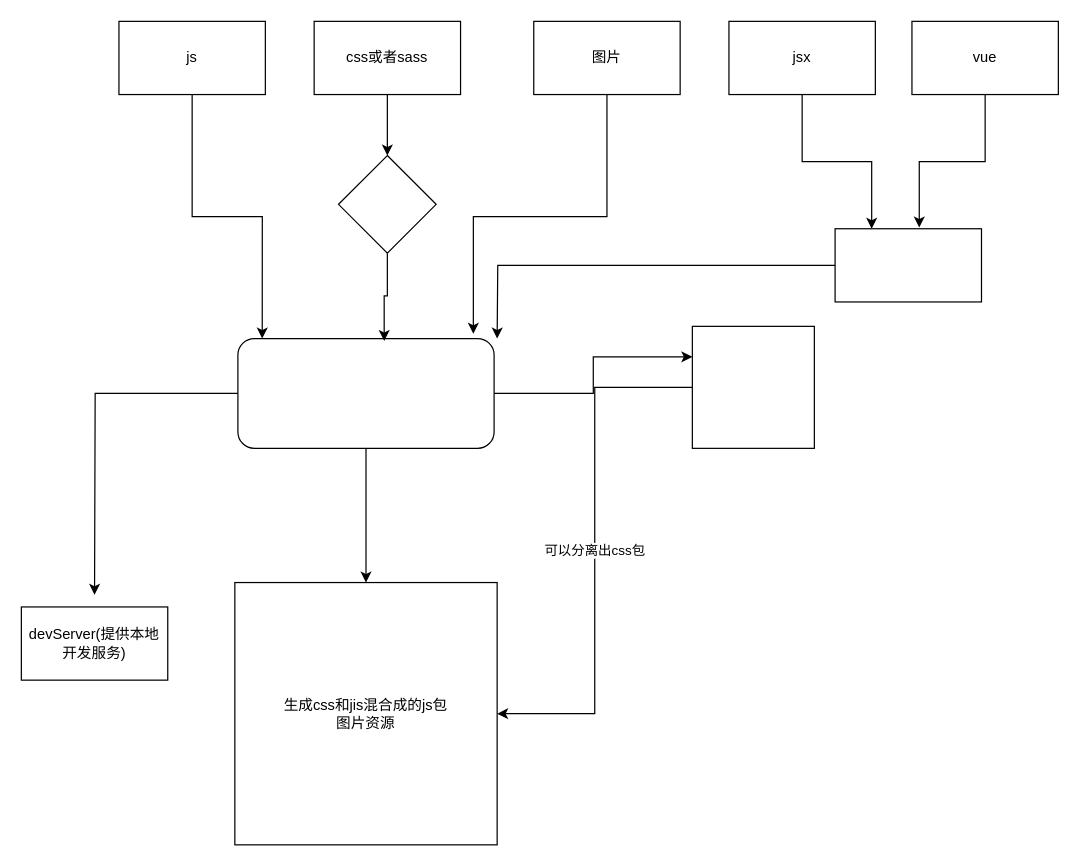
Image size: 1080x866. Some labels were removed from this diagram. The shapes that lost their labels are listed below. From the top down, each one's centre as x and y in pixels, then its label:
(386,203): loader
(907,265): babel
(365,392): webpack只认识.js结尾的文件
(752,386): plugin
